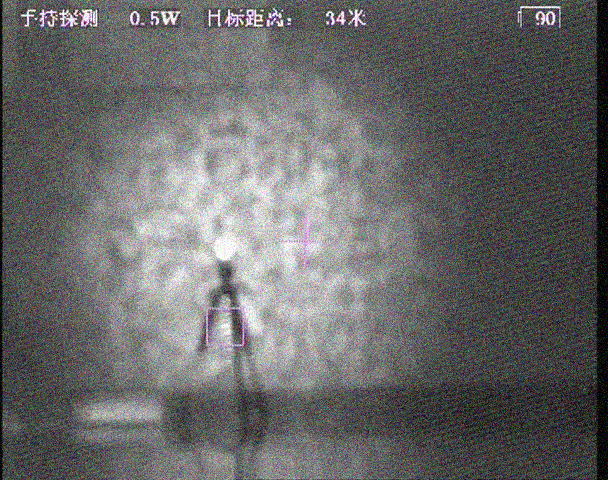my: (212, 236, 236, 262)
